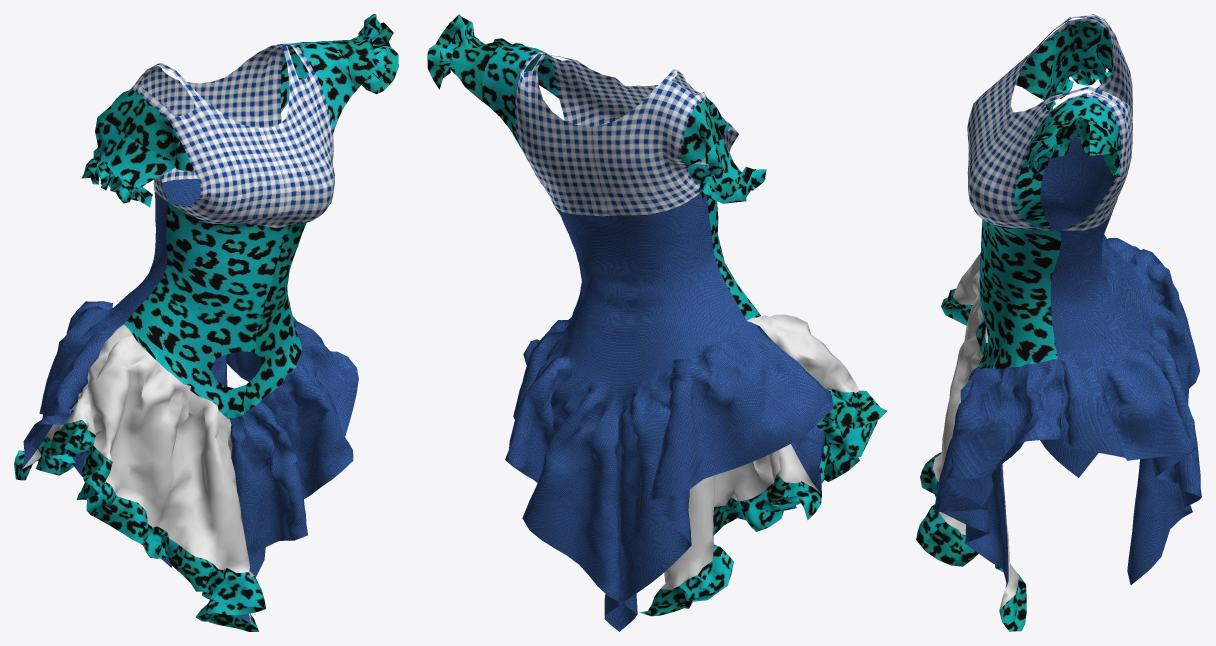
Rendered from asset09.glb.
The picture shows the model from 3 angles, left to right: view 1: azimuth 30°, elevation 25°; view 2: azimuth 150°, elevation 25°; view 3: azimuth 270°, elevation 25°; orthographic projection. The views are drawn at different scales.
Visible parts, largest first — view 1: New_02.001; view 2: New_02.001; view 3: New_02.001.
Boxes of the visible parts, x1,y1,x2,y2 form: New_02.001: (14,14,398,631); New_02.001: (427,14,887,631); New_02.001: (916,14,1201,631).
Bounding box in the file's own units: 5.64 × 8.21 × 3.59.
Materials: 4 (3 with a texture image).
